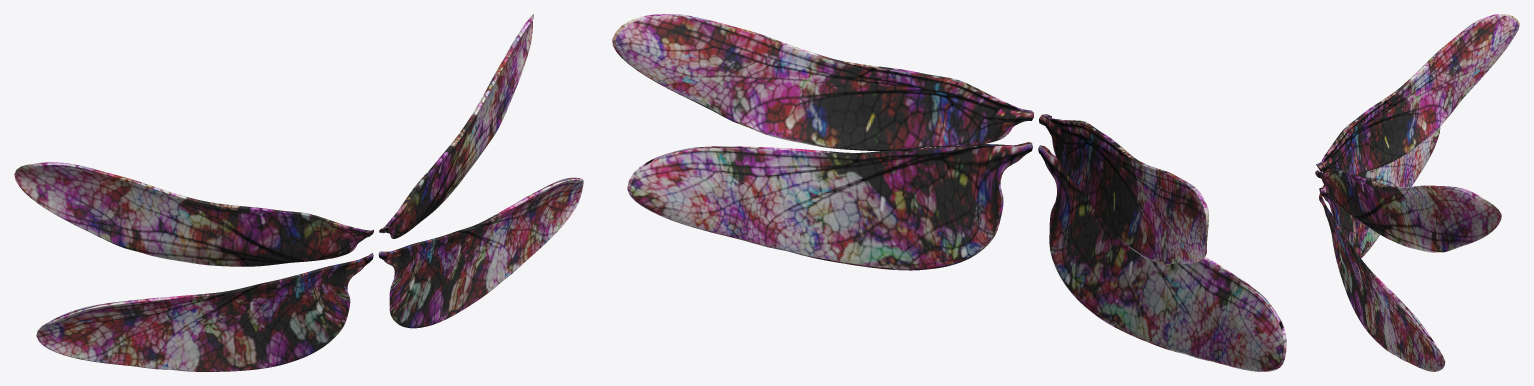
Rendered from mhw_elvs_static_wings1_dragonfly.glb.
3 views of the same model, side by side, from view 1: azimuth 30°, elevation 25°; view 2: azimuth 150°, elevation 25°; view 3: azimuth 270°, elevation 25° (orthographic). The views are drawn at different scales.
Visible parts, largest first — view 1: mhw_elvs_static_wings1_dragonfly; view 2: mhw_elvs_static_wings1_dragonfly; view 3: mhw_elvs_static_wings1_dragonfly.
Boxes of the visible parts, left/top/right/bottom form: mhw_elvs_static_wings1_dragonfly: left=14, top=14, right=583, bottom=371; mhw_elvs_static_wings1_dragonfly: left=612, top=14, right=1286, bottom=371; mhw_elvs_static_wings1_dragonfly: left=1315, top=14, right=1519, bottom=371.
Bounding box in the file's own units: 1.91 × 0.7483 × 0.6771.
1 material, 1 textured.
